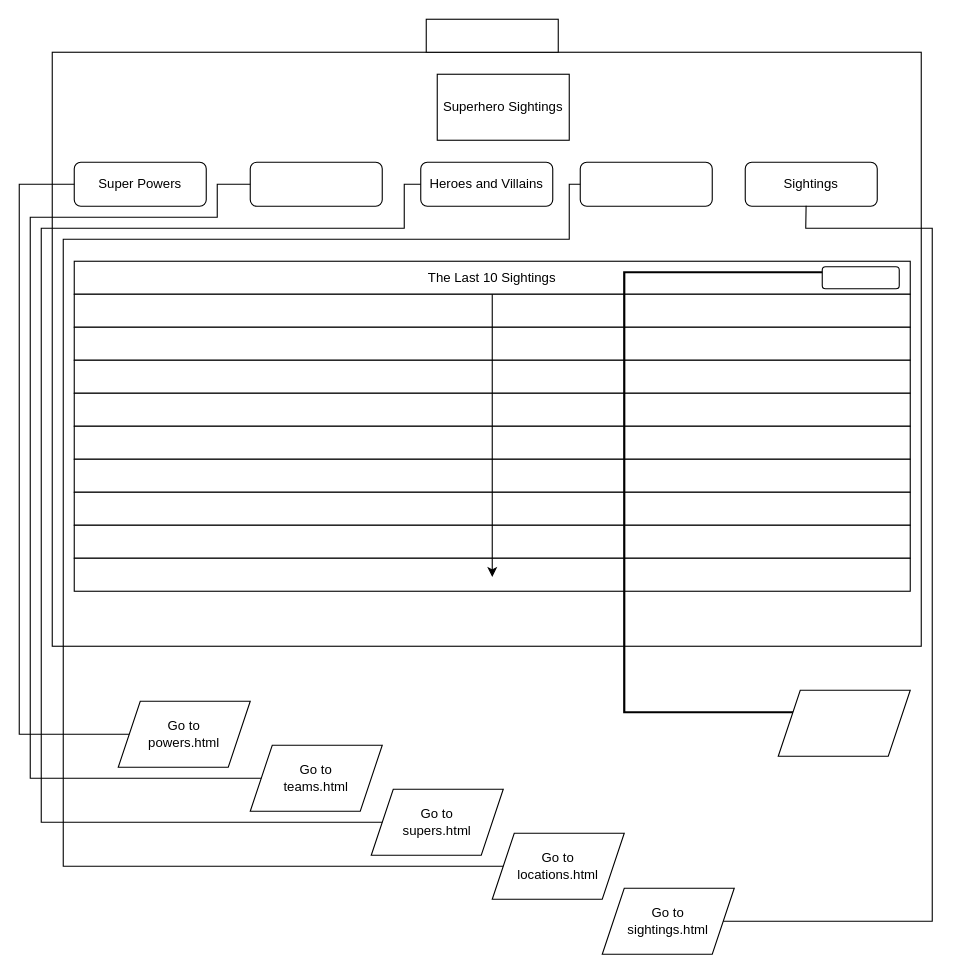
Some shapes in this 953 by 974 pixel diagram are drawn without their labels. The box of each missing label's shape, as (x1, y1, x2, y2) in pixels:
Details: (821, 266, 899, 289)
Go to sightingDetais: (777, 689, 910, 756)
index.html: (425, 18, 558, 52)
Locations: (579, 161, 712, 206)
Teams: (249, 161, 382, 206)
